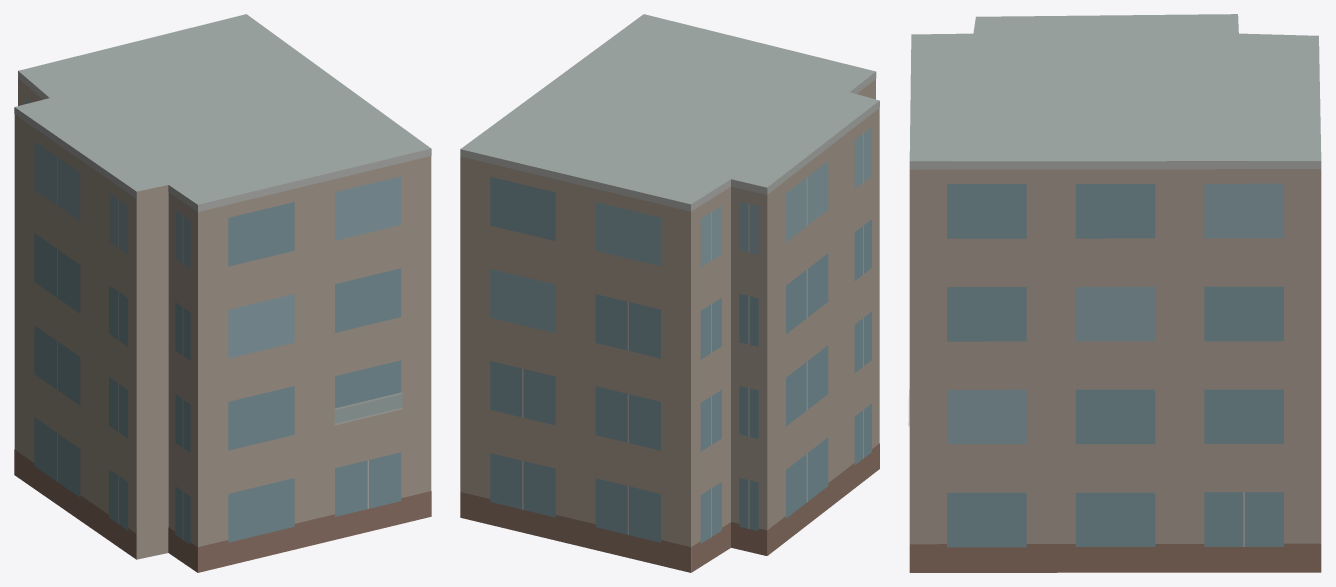
File: survey-upis-32744055.glb
3 views of the same model, side by side, from view 1: azimuth 30°, elevation 25°; view 2: azimuth 150°, elevation 25°; view 3: azimuth 270°, elevation 25° (orthographic). The views are drawn at different scales.
Parts seen in each view (by area): view 1: survey-upis-32744055.tmp; view 2: survey-upis-32744055.tmp; view 3: survey-upis-32744055.tmp.
Part boxes in pixels (<box>): survey-upis-32744055.tmp: <box>14,14,431,572</box>; survey-upis-32744055.tmp: <box>460,14,879,572</box>; survey-upis-32744055.tmp: <box>908,14,1321,572</box>.
Bounding box in the file's own units: 9.54 × 12.4 × 11.28.
